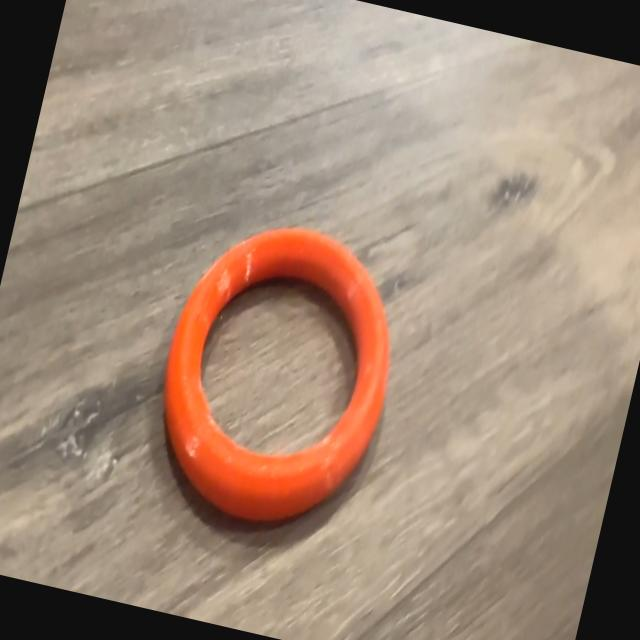note: (133, 199, 420, 554)
